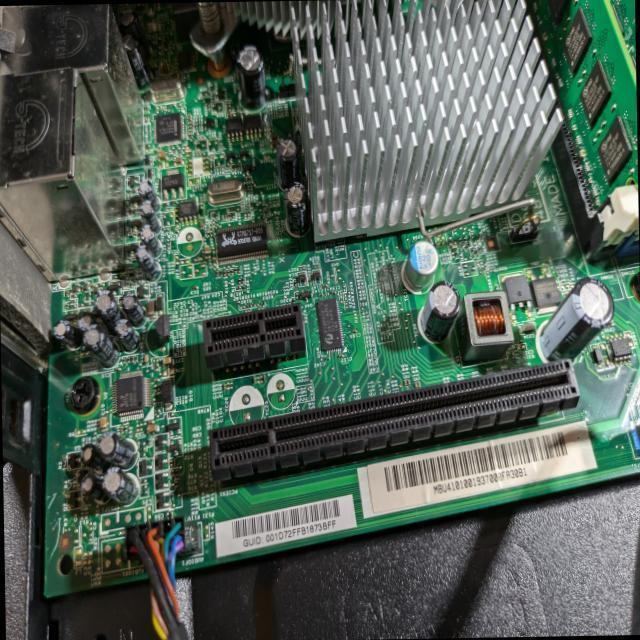Mainboard: (0, 0, 640, 597)
RAM: (525, 0, 639, 269)
